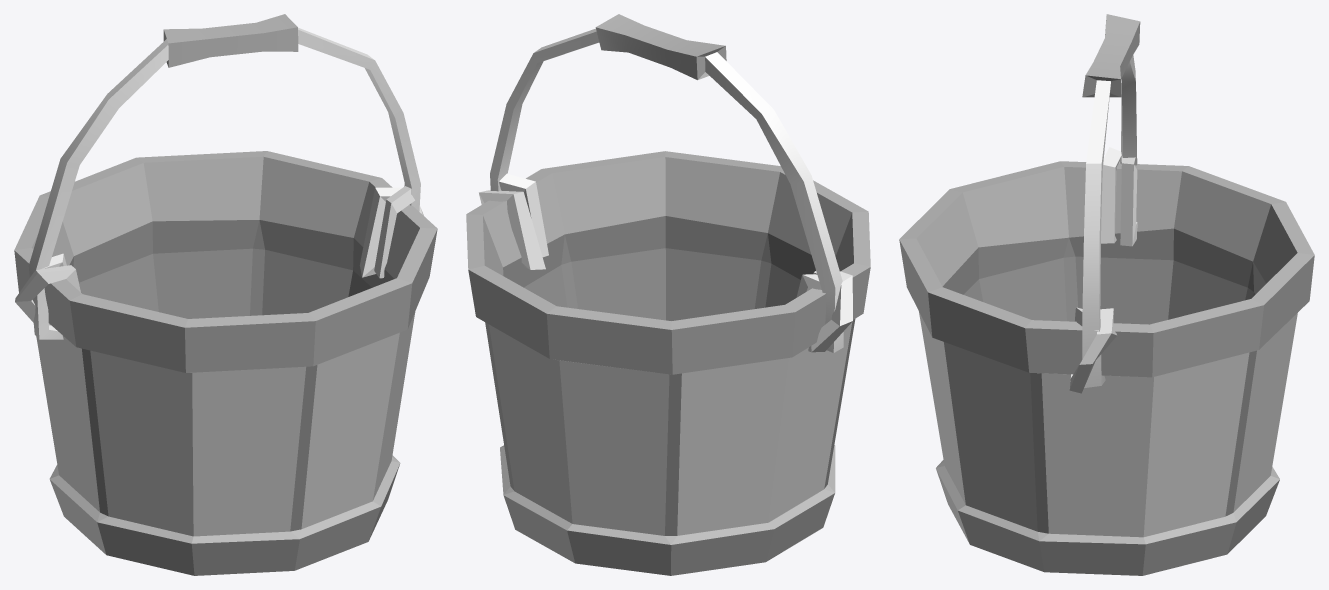
The model's file is PT_Bucket_01.fbx.
The picture shows the model from 3 angles, left to right: view 1: azimuth 30°, elevation 25°; view 2: azimuth 150°, elevation 25°; view 3: azimuth 270°, elevation 25°; orthographic projection. The views are drawn at different scales.
Parts seen in each view (by area): view 1: PT_Bucket_01; view 2: PT_Bucket_01; view 3: PT_Bucket_01.
Boxes of the visible parts, bbox=[...] form: PT_Bucket_01: bbox=[14, 14, 437, 575]; PT_Bucket_01: bbox=[466, 14, 870, 575]; PT_Bucket_01: bbox=[899, 14, 1314, 575].
Size of the model in its own units: 32.06 by 37.43 by 30.08.
Materials: 1 (1 with a texture image).
